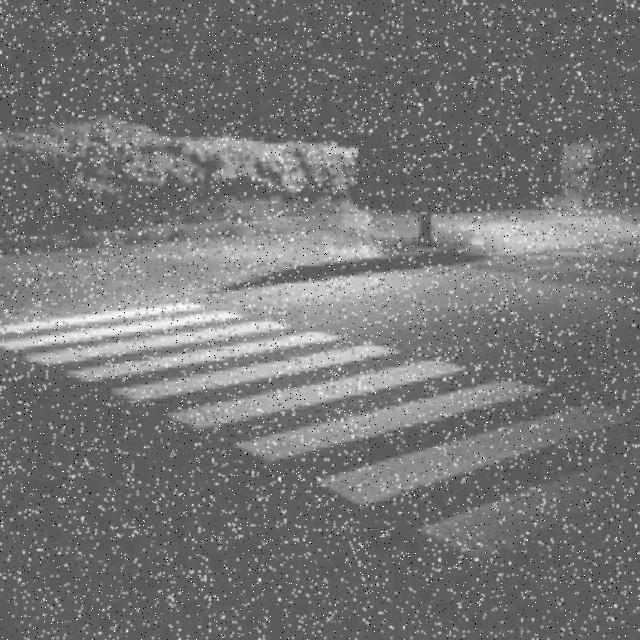crosswalk: (6, 297, 617, 563)
